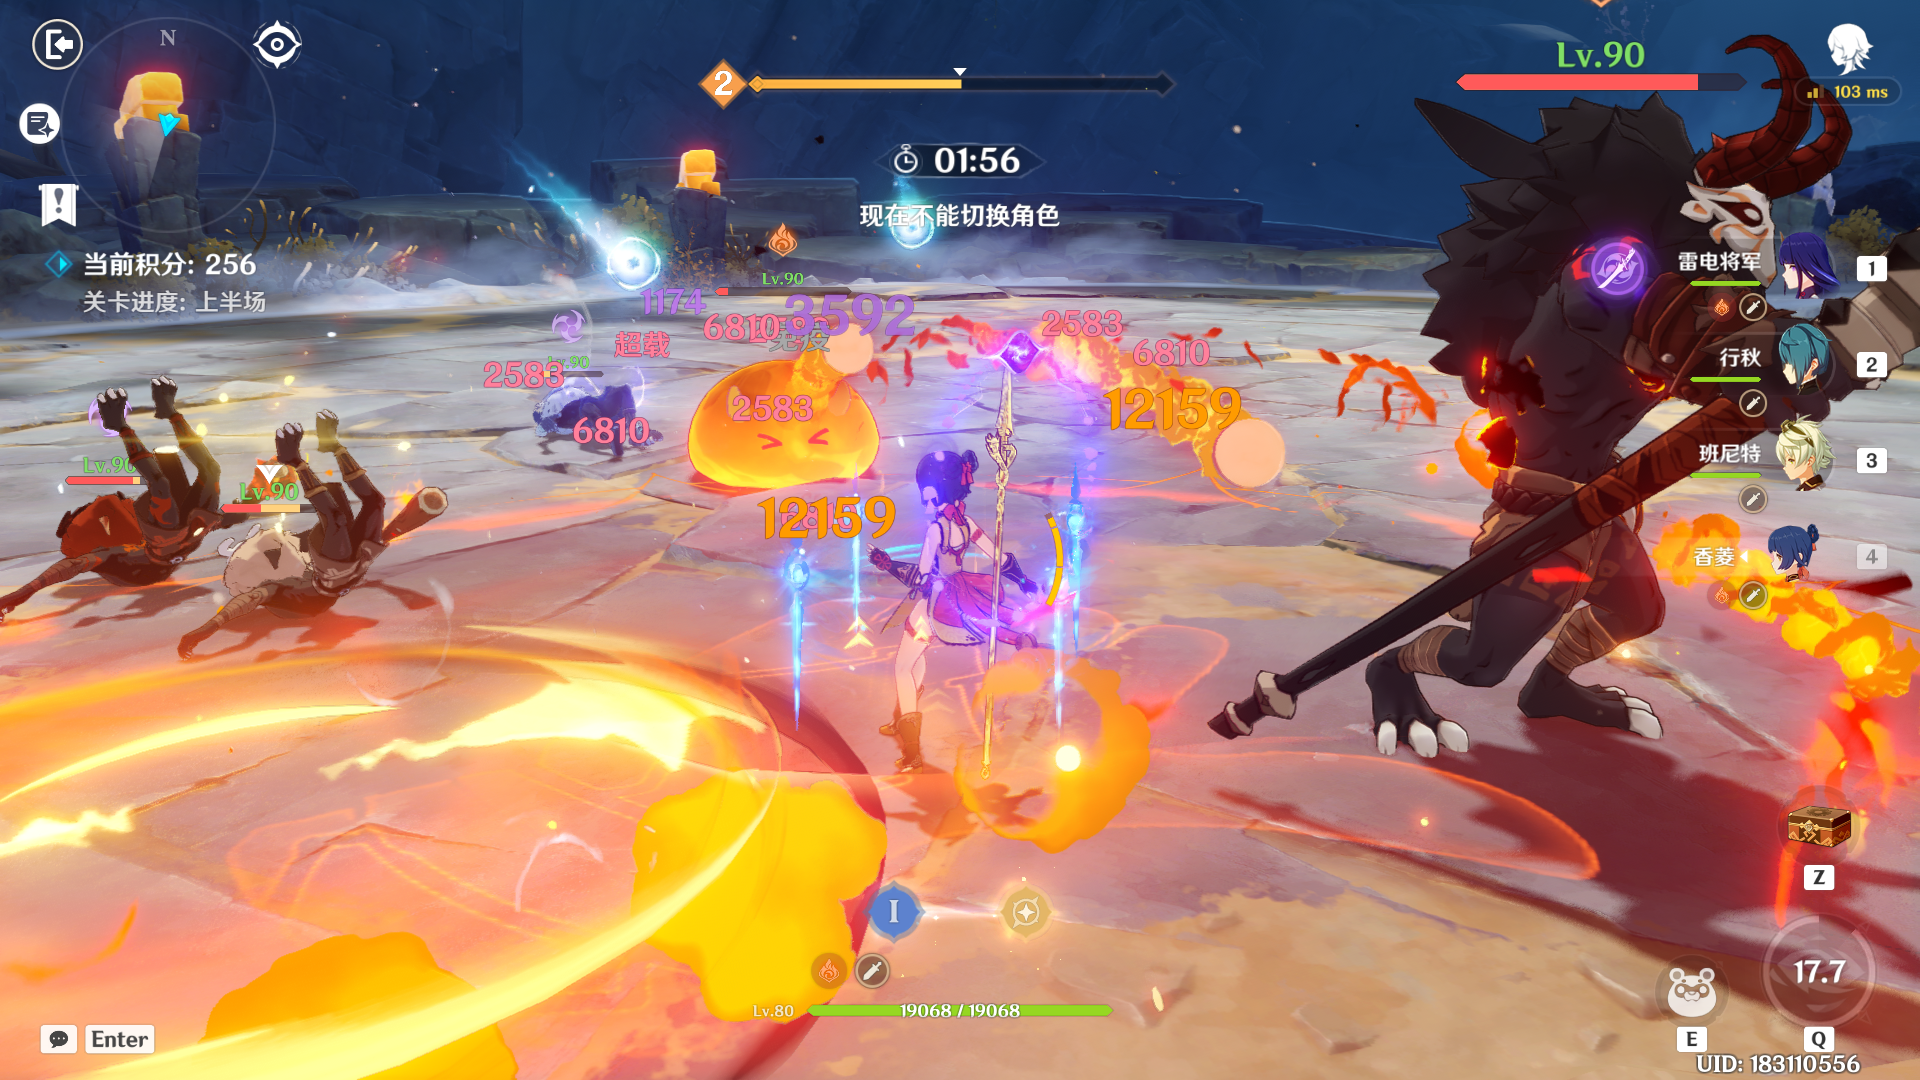bighili: (1247, 15, 1882, 775)
character: (876, 407, 1101, 828)
hili: (186, 405, 458, 680), (26, 360, 251, 603), (504, 349, 665, 483)
slime: (670, 319, 909, 514)
